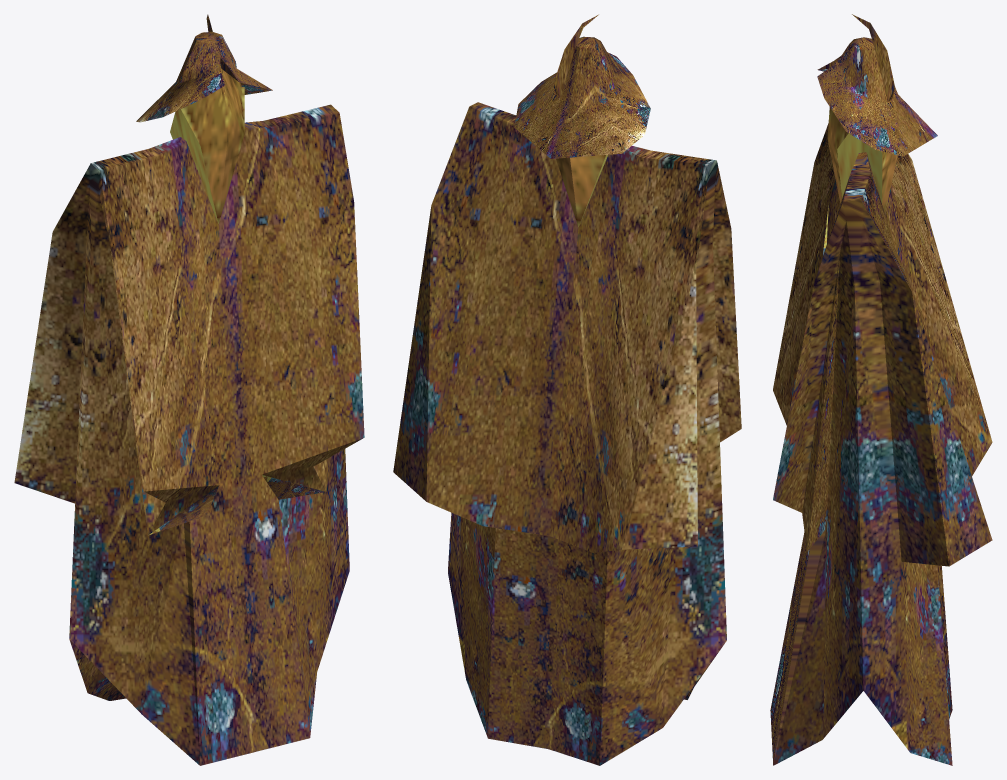
Rendered from frn_all_decorative_lg_s2_l1.fbx.
3 views of the same model, side by side, from view 1: azimuth 30°, elevation 25°; view 2: azimuth 150°, elevation 25°; view 3: azimuth 270°, elevation 25° (orthographic). The views are drawn at different scales.
Visible parts, largest first — view 1: mesh_node; view 2: mesh_node; view 3: mesh_node.
Part boxes in pixels (x1,y1,x2,y2): mesh_node: (14,14,364,765); mesh_node: (393,14,741,765); mesh_node: (770,14,992,765).
Bounding box in the file's own units: 0.729 × 1.61 × 0.4495.
1 material, 1 textured.
